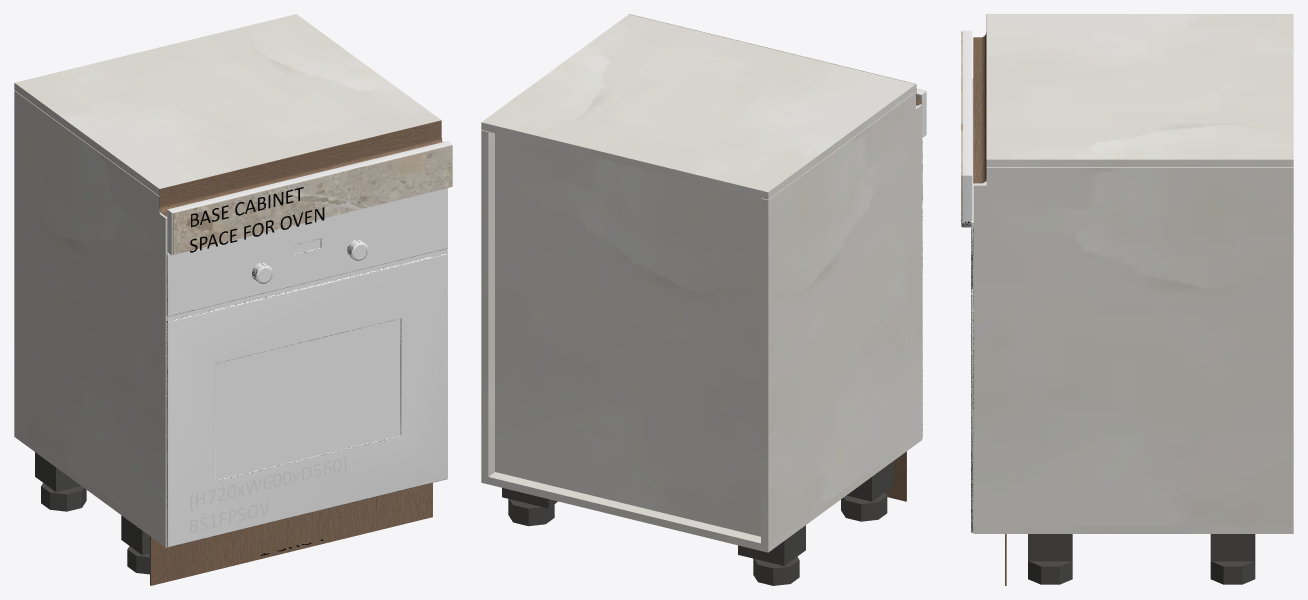
The model's file is BS1FPSOV_CJ (H720xW600xD560).glb.
The picture shows the model from 3 angles, left to right: view 1: azimuth 30°, elevation 25°; view 2: azimuth 150°, elevation 25°; view 3: azimuth 270°, elevation 25°; orthographic projection. The views are drawn at different scales.
Size of what is drawn, in the model's own units: 0.6 by 0.82 by 0.5899.
8 materials, 3 textured.
